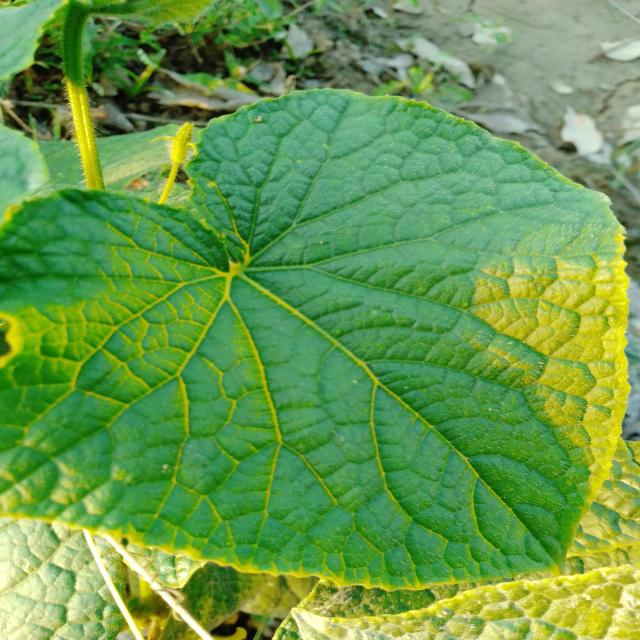cucumber_healthy: (3, 81, 628, 583), (288, 438, 640, 640)
